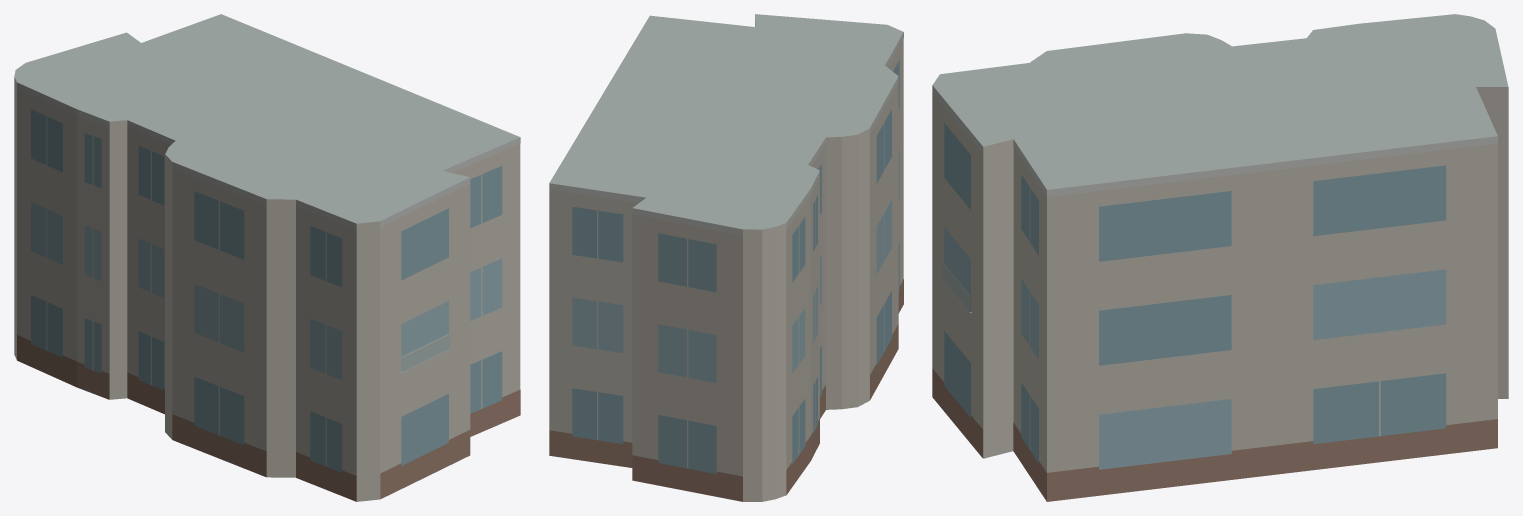
The model's file is survey-upis-33024441.glb.
The picture shows the model from 3 angles, left to right: view 1: azimuth 30°, elevation 25°; view 2: azimuth 150°, elevation 25°; view 3: azimuth 270°, elevation 25°; orthographic projection. The views are drawn at different scales.
Parts seen in each view (by area): view 1: survey-upis-33024441.tmp; view 2: survey-upis-33024441.tmp; view 3: survey-upis-33024441.tmp.
Part boxes in pixels (x1,y1,x2,y2): survey-upis-33024441.tmp: (14,14,520,501); survey-upis-33024441.tmp: (549,14,903,501); survey-upis-33024441.tmp: (932,14,1508,501).
Bounding box in the file's own units: 12.83 × 10.6 × 17.75.
